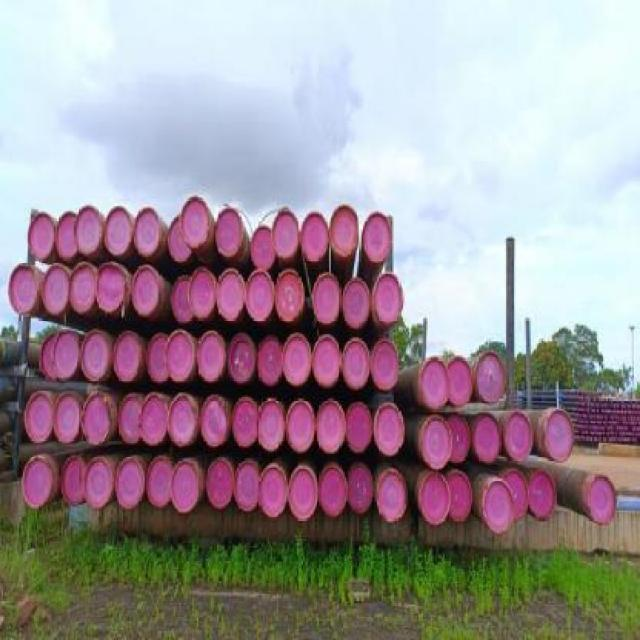pipe: (543, 405, 577, 463), (482, 479, 516, 536), (372, 268, 406, 325), (419, 354, 453, 410), (420, 413, 453, 470), (361, 208, 394, 265), (198, 391, 231, 447), (95, 258, 128, 314), (8, 258, 41, 314), (475, 348, 508, 403), (256, 397, 290, 450), (171, 454, 202, 511), (165, 326, 196, 383), (139, 389, 170, 446), (195, 329, 228, 382), (81, 391, 114, 444), (81, 455, 114, 508), (586, 471, 617, 527), (259, 461, 290, 517), (182, 192, 213, 248), (112, 326, 143, 382), (342, 336, 373, 391), (214, 204, 245, 259), (168, 390, 199, 445), (371, 334, 402, 388), (329, 202, 360, 256), (342, 274, 373, 328), (282, 331, 313, 385), (286, 465, 317, 519), (374, 401, 405, 454), (379, 468, 410, 521), (300, 208, 331, 261), (312, 334, 343, 387), (319, 465, 350, 518), (285, 398, 316, 451), (245, 268, 276, 321), (188, 266, 219, 319), (116, 455, 147, 508), (103, 203, 134, 256), (74, 203, 105, 256), (52, 391, 83, 444), (23, 454, 54, 507), (25, 391, 56, 444), (420, 471, 451, 522), (312, 271, 343, 322), (505, 408, 534, 462), (502, 466, 531, 520), (530, 466, 559, 519), (474, 409, 503, 462), (445, 469, 474, 522), (317, 398, 346, 451), (207, 455, 236, 508), (28, 208, 57, 261), (132, 205, 163, 254), (132, 265, 163, 314), (51, 330, 82, 379), (228, 329, 256, 383), (345, 400, 373, 453), (272, 206, 300, 259), (257, 332, 285, 385), (232, 395, 260, 448), (447, 356, 476, 407), (276, 268, 305, 319), (216, 268, 245, 319), (233, 459, 262, 510), (70, 262, 99, 313), (62, 452, 88, 508), (82, 330, 111, 379), (42, 263, 71, 312), (146, 452, 172, 506), (119, 391, 145, 444), (348, 462, 374, 513), (146, 331, 172, 382), (251, 225, 279, 271), (55, 208, 80, 259), (445, 411, 471, 460), (171, 274, 197, 322), (170, 215, 193, 260), (40, 333, 60, 379)
